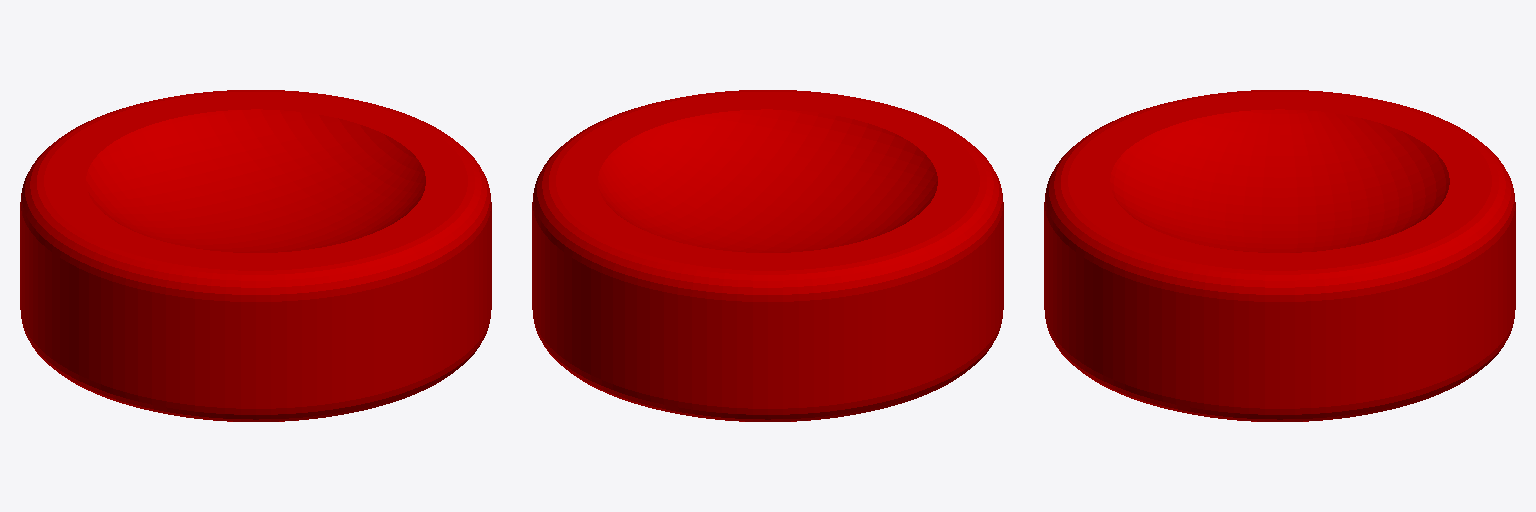
URDF robot description (fetch):
<robot name="fetch">
  <link name="base_link"/>
  <link name="disc">
    <visual>
      <geometry>
        <mesh filename="package://my_disc_visual/meshes/disc_game.dae" scale="1 1 1"/>
      </geometry>
    </visual>
  </link>

  <joint name="disc_to_world" type="fixed">
    <parent link="base_link"/>
    <child link="disc"/>
    <origin xyz="1 0 0" rpy="0 0 0"/>
  </joint>
</robot>

--- Render facts (derived) ---
Views: 3 orthographic renders of the robot side by side, from view 1: azimuth 30°, elevation 25°; view 2: azimuth 150°, elevation 25°; view 3: azimuth 270°, elevation 25°.
Robot: fetch — 2 links, 1 joints (1 fixed); root link base_link; default pose: every joint at zero.
Visible links, largest first — view 1: disc; view 2: disc; view 3: disc.
Link boxes in pixels (bbox=[...]): disc: bbox=[20, 90, 491, 421]; disc: bbox=[532, 90, 1003, 421]; disc: bbox=[1044, 90, 1515, 421].
Size in the robot's own frame: 0.138 by 0.138 by 0.0483 metres.
1 mesh visuals loaded from 1 distinct referenced files (1 Collada DAE).